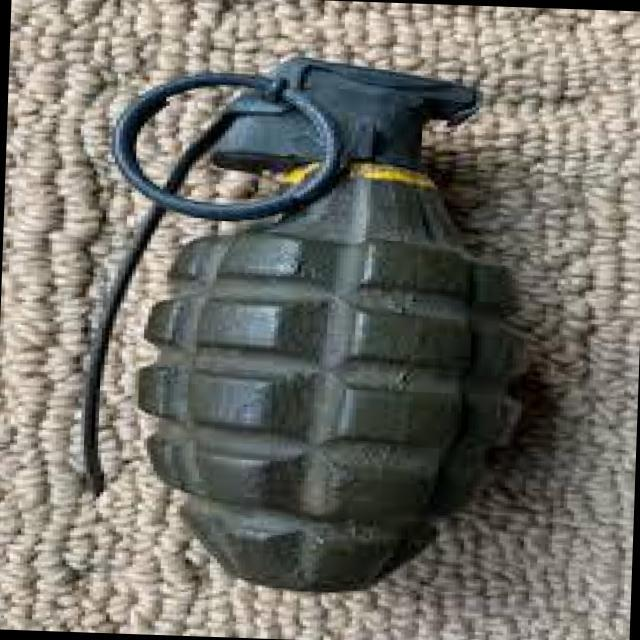grenade: (66, 30, 556, 610)
